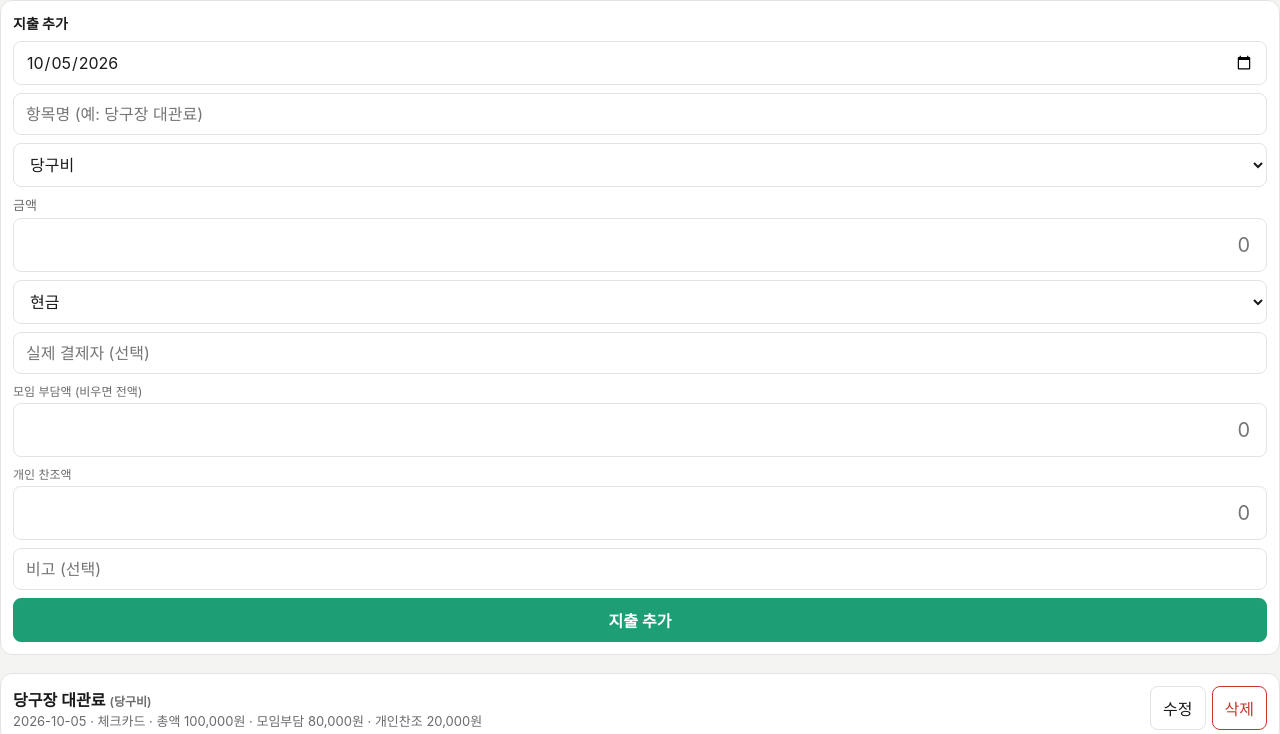
Test: 수정 저장 / 취소 — 기존 기능 그대로 › 6-a. 취소: 수정 상태가 풀리고 신규 입력 모드(빈 폼)로 돌아가며, 데이터는 그대로다
Click the button "수정" in the row of "· 개인찬조 20,000원" at (1178, 708), box [1150,686,1206,730]
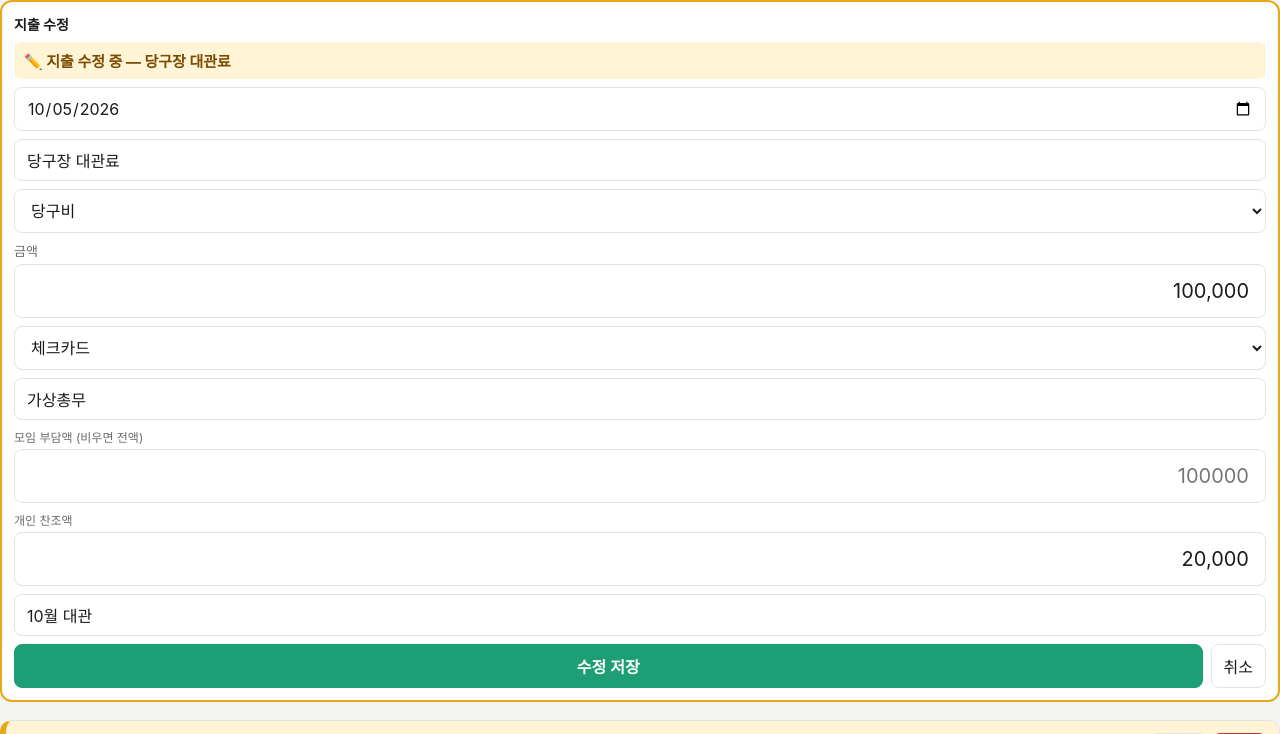
Click the button "취소" at (1238, 666), box [1210,644,1266,688]
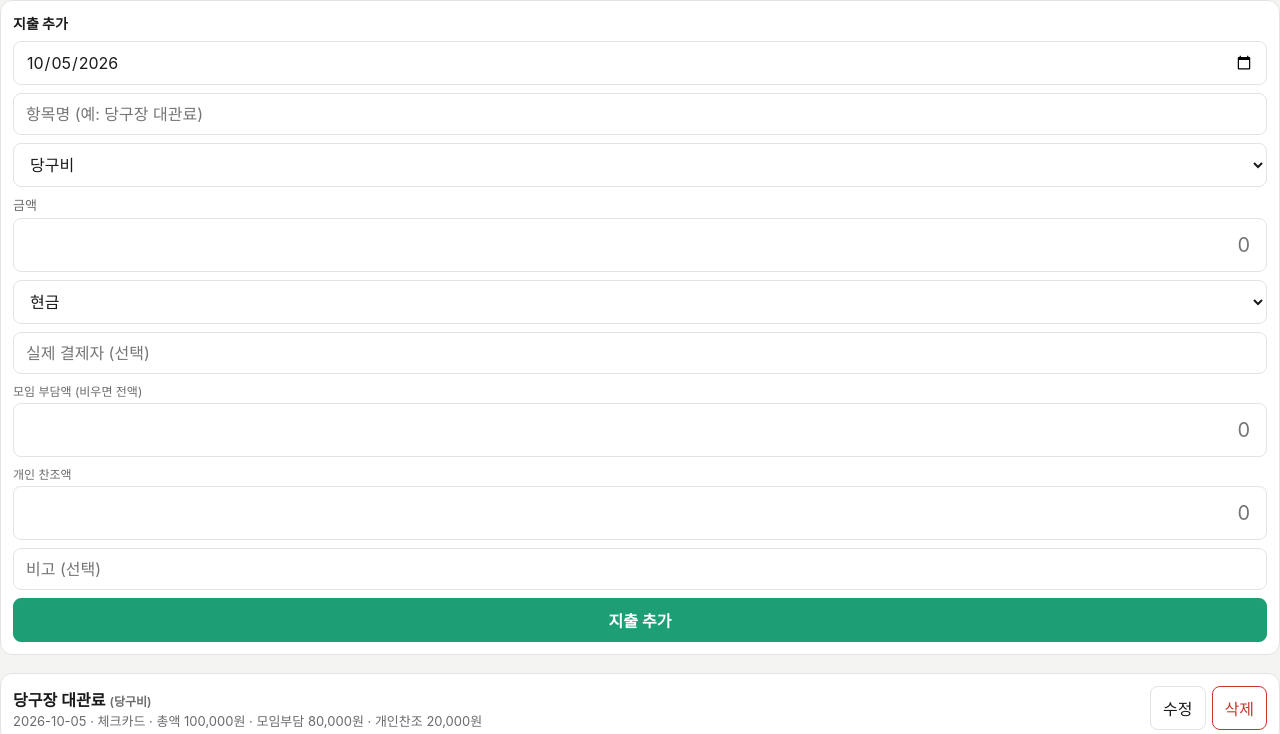
Check: the message with test id "expense-editing-banner" is gone
Check: the text "지출 추가" is shown, box [13,15,68,32]
